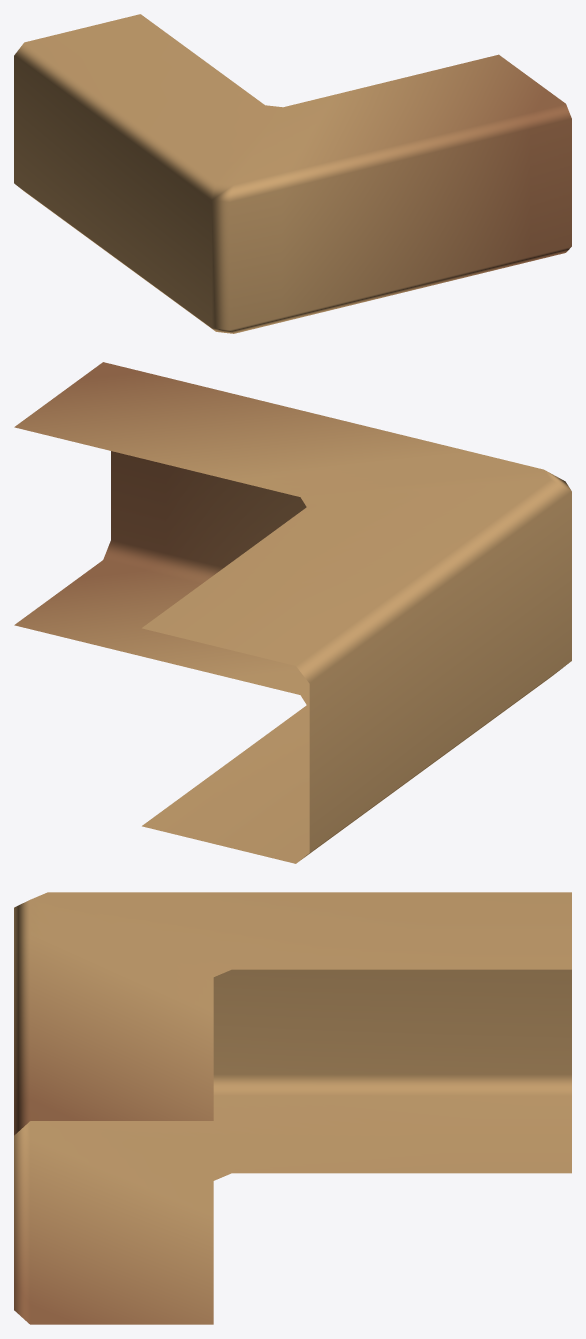
File: DBK_Trim_D_Corner.fbx
3 views of the same model, one above another, from view 1: azimuth 30°, elevation 25°; view 2: azimuth 150°, elevation 25°; view 3: azimuth 270°, elevation 25° (orthographic). The views are drawn at different scales.
Visible parts, largest first — view 1: DBK_Trim_D_Corner; view 2: DBK_Trim_D_Corner; view 3: DBK_Trim_D_Corner.
Part boxes in pixels (x1,y1,x2,y2): DBK_Trim_D_Corner: (14, 14, 571, 333); DBK_Trim_D_Corner: (14, 362, 571, 863); DBK_Trim_D_Corner: (14, 892, 571, 1324).
Bounding box in the file's own units: 31.15 × 12.55 × 31.15.
